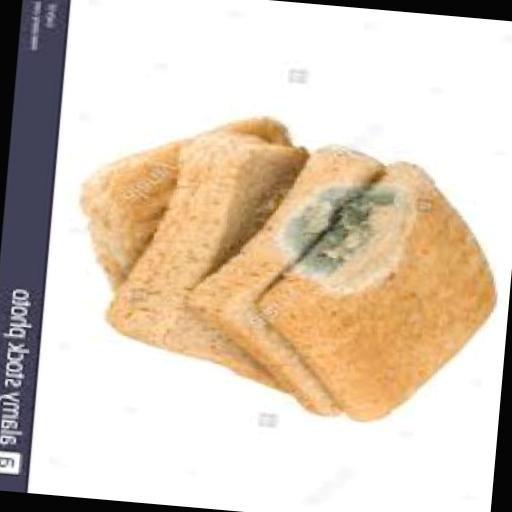biodegradable: (251, 152, 512, 435), (184, 138, 388, 420), (110, 124, 320, 396), (78, 106, 302, 312)
